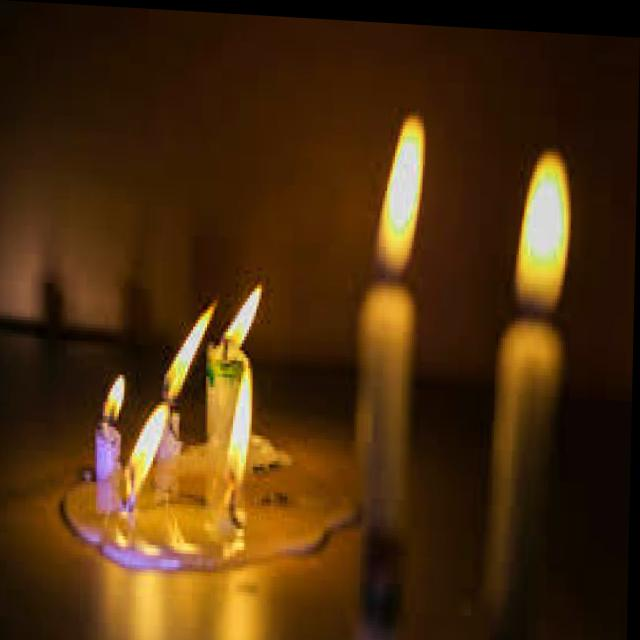fire: (358, 101, 446, 287), (507, 136, 575, 310), (154, 287, 221, 409), (117, 401, 175, 494), (213, 269, 272, 349), (79, 364, 136, 423)
